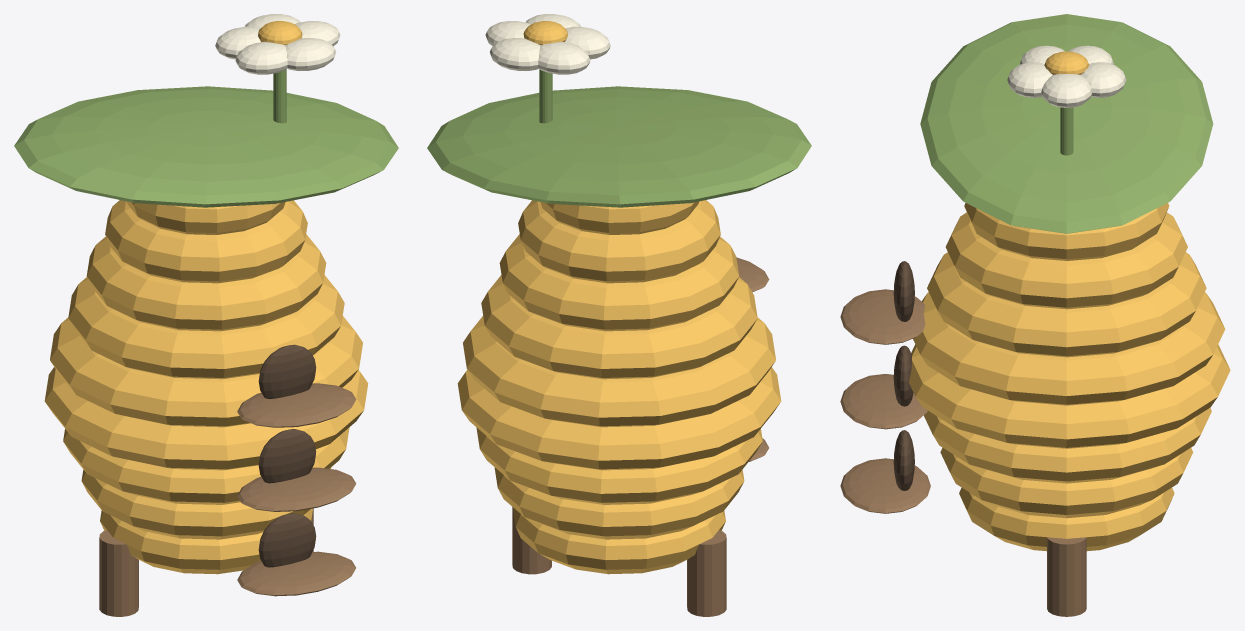
Rendered from BeeHome3.fbx.
3 renders of one model, left to right at view 1: azimuth 30°, elevation 25°; view 2: azimuth 150°, elevation 25°; view 3: azimuth 270°, elevation 25°, orthographic.
Visible parts, largest first — view 1: Leaf roof.001, Honey coil.012, Honey coil.011, Honey coil.013, Honey coil.010, Honey coil.014, Honey coil.009, Honey coil.008, Honey coil.007, Honey coil.015, Landing porch.004, Landing porch.003 (+11 smaller); view 2: Leaf roof.001, Honey coil.011, Honey coil.010, Honey coil.012, Honey coil.013, Honey coil.014, Honey coil.009, Honey coil.008, Honey coil.007, Honey coil.015, Foot.002, Roof blossom.007 (+7 smaller); view 3: Leaf roof.001, Honey coil.011, Honey coil.012, Honey coil.010, Honey coil.013, Honey coil.009, Honey coil.008, Honey coil.007, Honey coil.014, Landing porch.002, Landing porch.004, Landing porch.003 (+9 smaller).
Part boxes in pixels (x1=…): Leaf roof.001: x1=14, y1=86, x2=398, y2=207; Honey coil.012: x1=68, y1=275, x2=344, y2=379; Honey coil.011: x1=50, y1=316, x2=362, y2=427; Honey coil.013: x1=86, y1=234, x2=326, y2=331; Honey coil.010: x1=44, y1=367, x2=368, y2=470; Honey coil.014: x1=105, y1=200, x2=307, y2=283; Honey coil.009: x1=63, y1=427, x2=349, y2=504; Honey coil.008: x1=81, y1=467, x2=331, y2=539; Honey coil.007: x1=100, y1=508, x2=312, y2=574; Honey coil.015: x1=126, y1=201, x2=285, y2=234; Landing porch.004: x1=237, y1=383, x2=356, y2=427; Landing porch.003: x1=237, y1=467, x2=356, y2=511; Leaf roof.001: x1=427, y1=86, x2=811, y2=207; Honey coil.011: x1=463, y1=316, x2=775, y2=427; Honey coil.010: x1=457, y1=367, x2=781, y2=470; Honey coil.012: x1=481, y1=275, x2=757, y2=379; Honey coil.013: x1=499, y1=234, x2=739, y2=331; Honey coil.014: x1=518, y1=200, x2=720, y2=283; Honey coil.009: x1=476, y1=427, x2=762, y2=504; Honey coil.008: x1=494, y1=467, x2=744, y2=539; Honey coil.007: x1=513, y1=508, x2=725, y2=574; Honey coil.015: x1=540, y1=201, x2=699, y2=234; Foot.002: x1=687, y1=530, x2=726, y2=616; Roof blossom.007: x1=538, y1=41, x2=590, y2=74; Leaf roof.001: x1=920, y1=14, x2=1213, y2=233; Honey coil.011: x1=913, y1=292, x2=1225, y2=405; Honey coil.012: x1=927, y1=252, x2=1206, y2=357; Honey coil.010: x1=908, y1=344, x2=1230, y2=448; Honey coil.013: x1=945, y1=212, x2=1187, y2=309; Honey coil.009: x1=924, y1=408, x2=1211, y2=483; Honey coil.008: x1=940, y1=447, x2=1193, y2=518; Honey coil.007: x1=959, y1=487, x2=1174, y2=551; Honey coil.014: x1=964, y1=203, x2=1169, y2=260; Landing porch.002: x1=840, y1=458, x2=930, y2=513; Landing porch.004: x1=840, y1=289, x2=925, y2=344; Landing porch.003: x1=840, y1=374, x2=927, y2=429.
Size of the model in its own units: 155 by 227 by 146.
